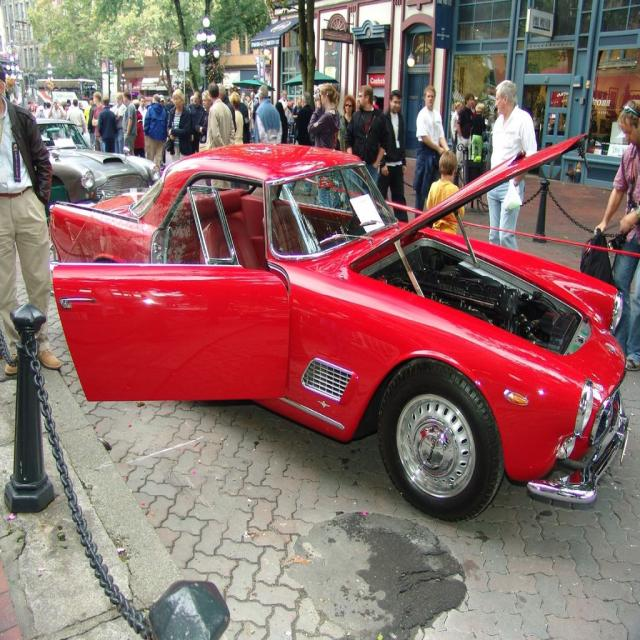car: (45, 133, 631, 528)
